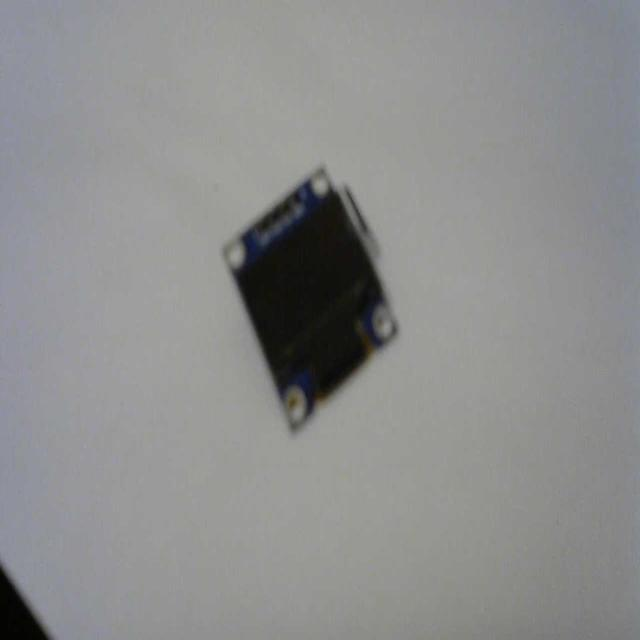oled: (223, 157, 403, 430)
